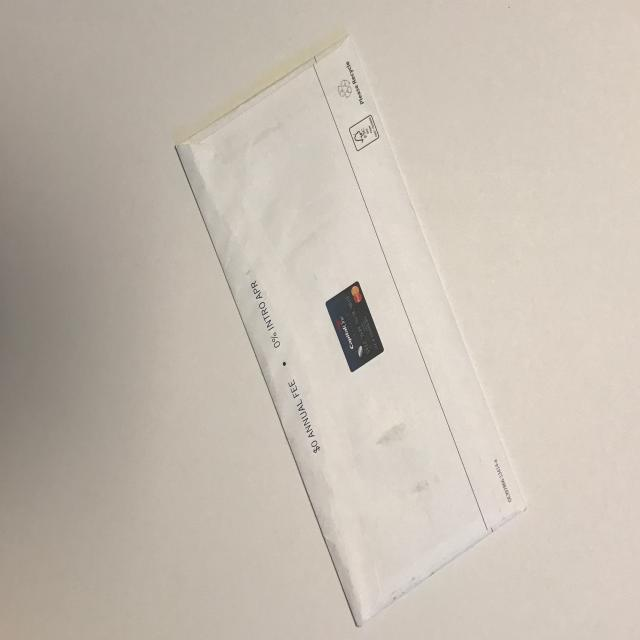paper: (174, 35, 528, 627)
